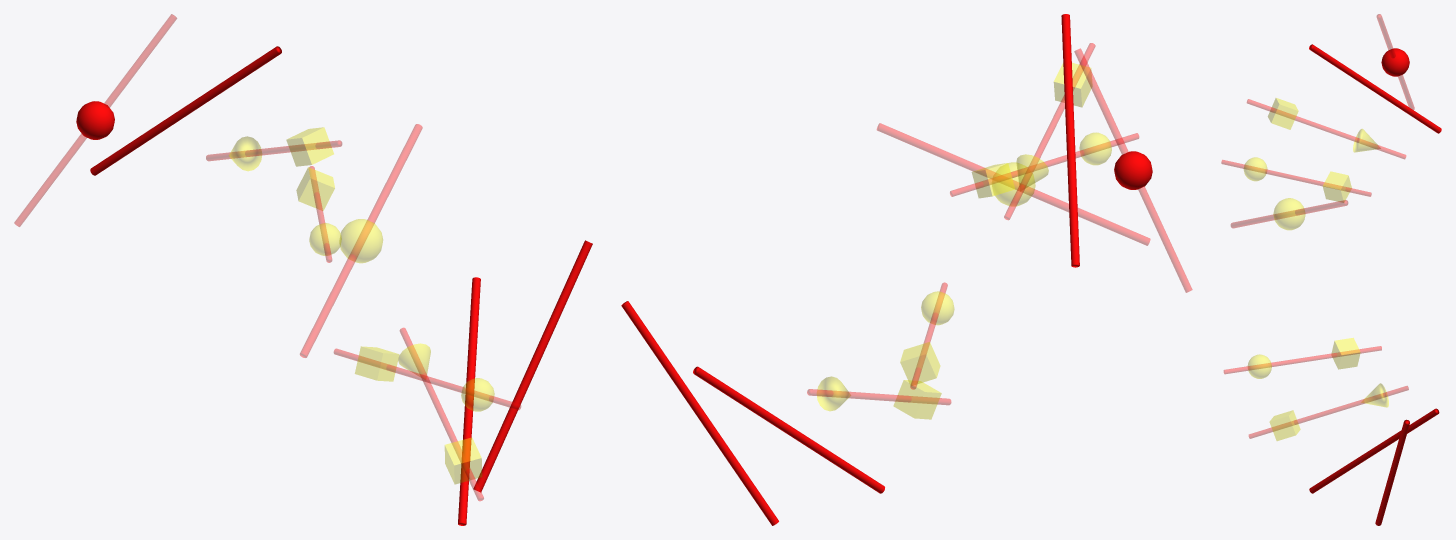
Rendered from candidate.gltf.
3 renders of one model, left to right at view 1: azimuth 30°, elevation 25°; view 2: azimuth 150°, elevation 25°; view 3: azimuth 270°, elevation 25°, orthographic. The views are drawn at different scales.
Size of the model in its own units: 33.63 by 30.92 by 15.34.
